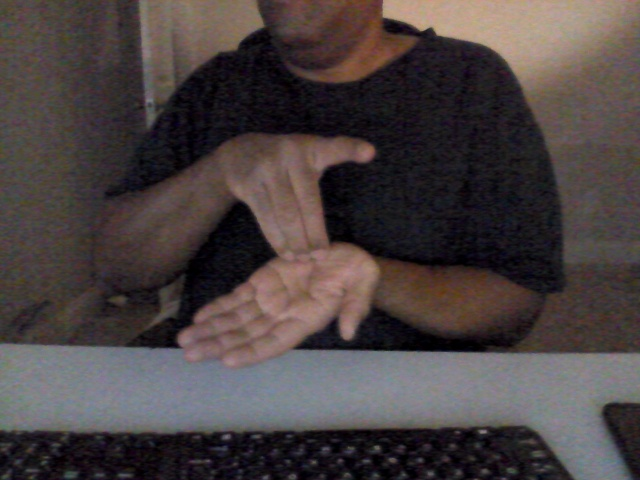doctor: (171, 118, 383, 391)
